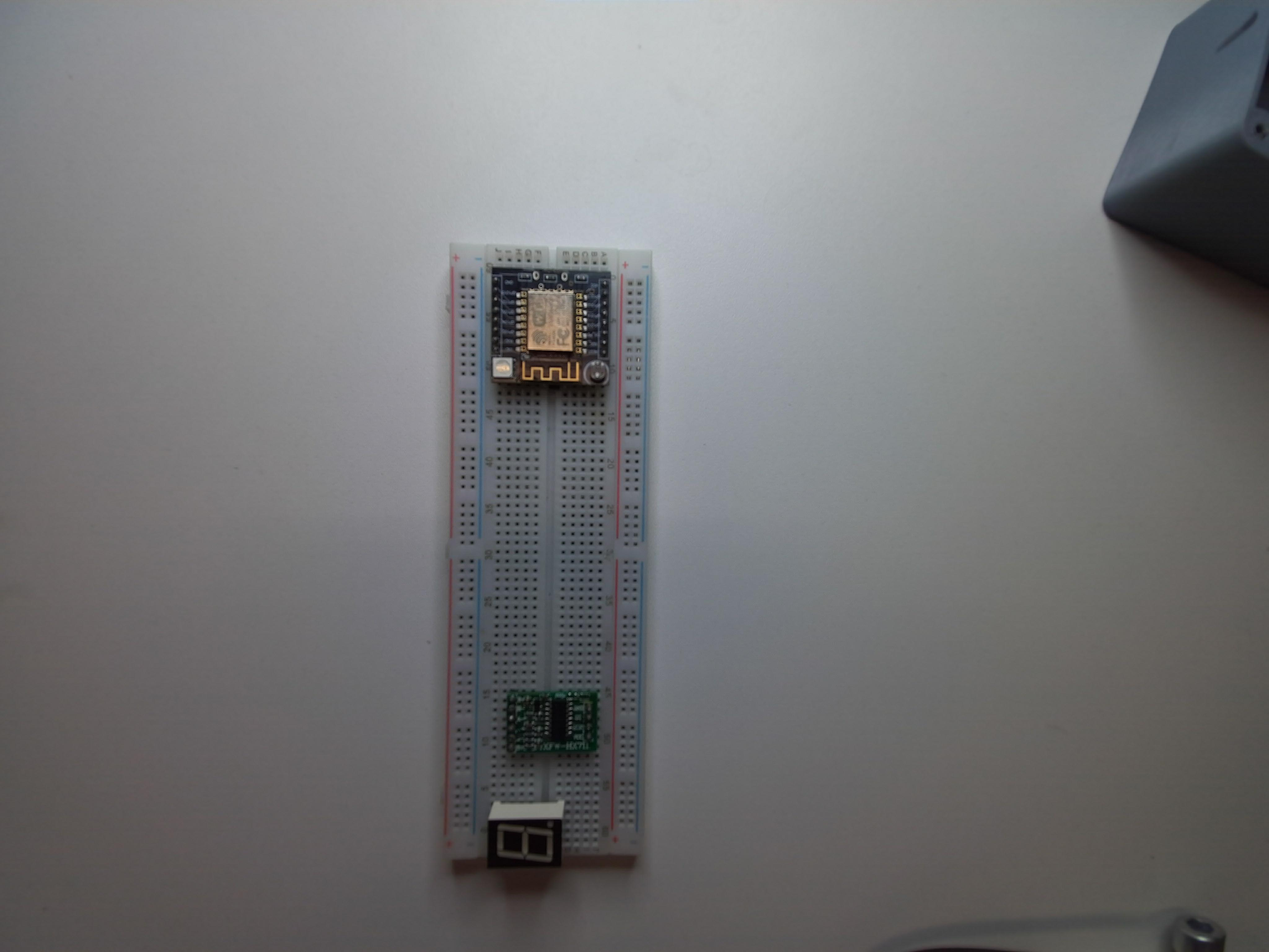base: (444, 239, 659, 872)
digit-board: (483, 797, 567, 870)
esp: (488, 264, 614, 392)
green-board: (500, 690, 604, 758)
